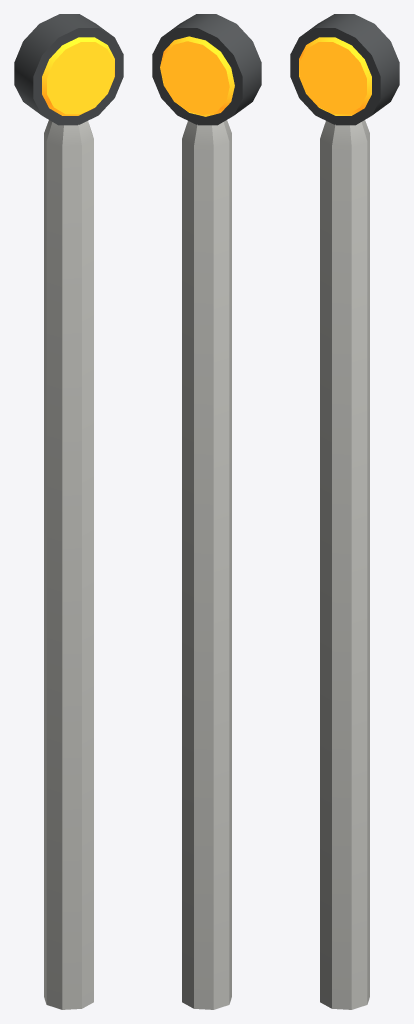
Rendered from delineator.glb.
3 renders of one model, left to right at view 1: azimuth 30°, elevation 25°; view 2: azimuth 150°, elevation 25°; view 3: azimuth 330°, elevation 25°, orthographic.
Visible parts, largest first — view 1: delineator; view 2: delineator; view 3: delineator.
Part boxes in pixels (x1,y1,x2,y2): delineator: (14, 14, 123, 1009); delineator: (152, 14, 261, 1009); delineator: (290, 14, 399, 1009).
Bounding box in the file's own units: 0.1209 × 1.25 × 0.06.
